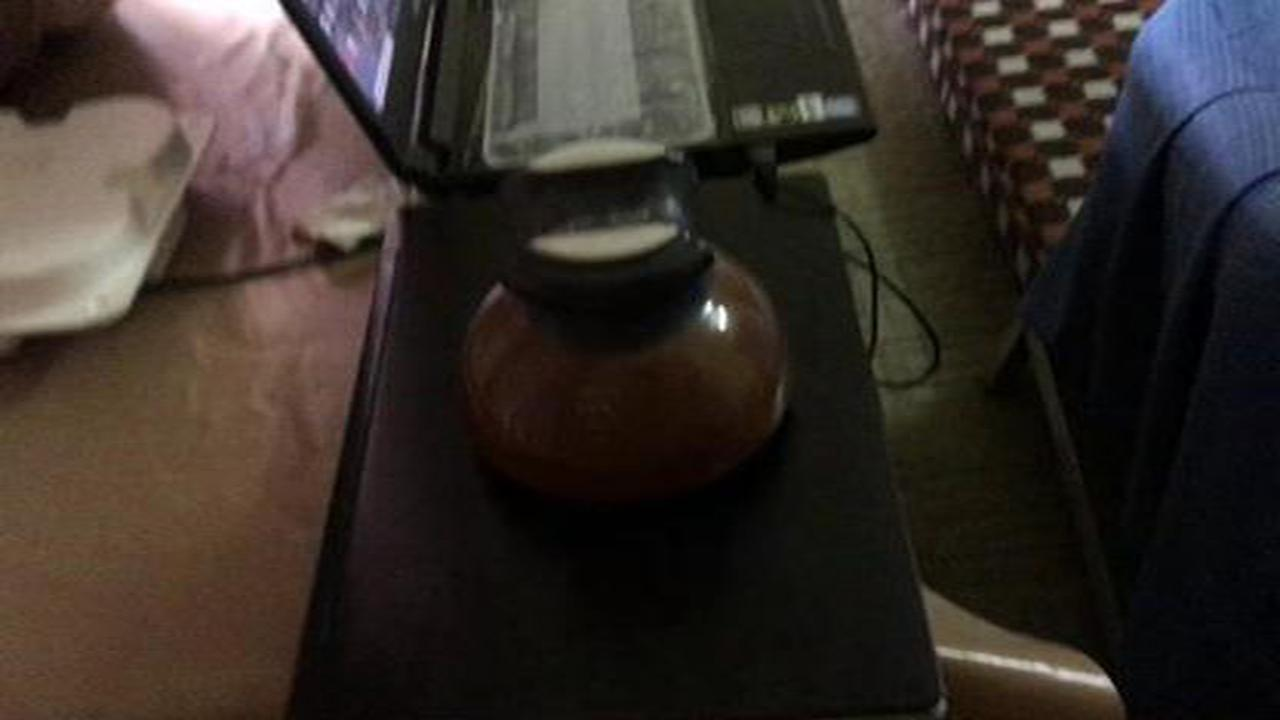insulator_pin: (436, 124, 810, 542)
